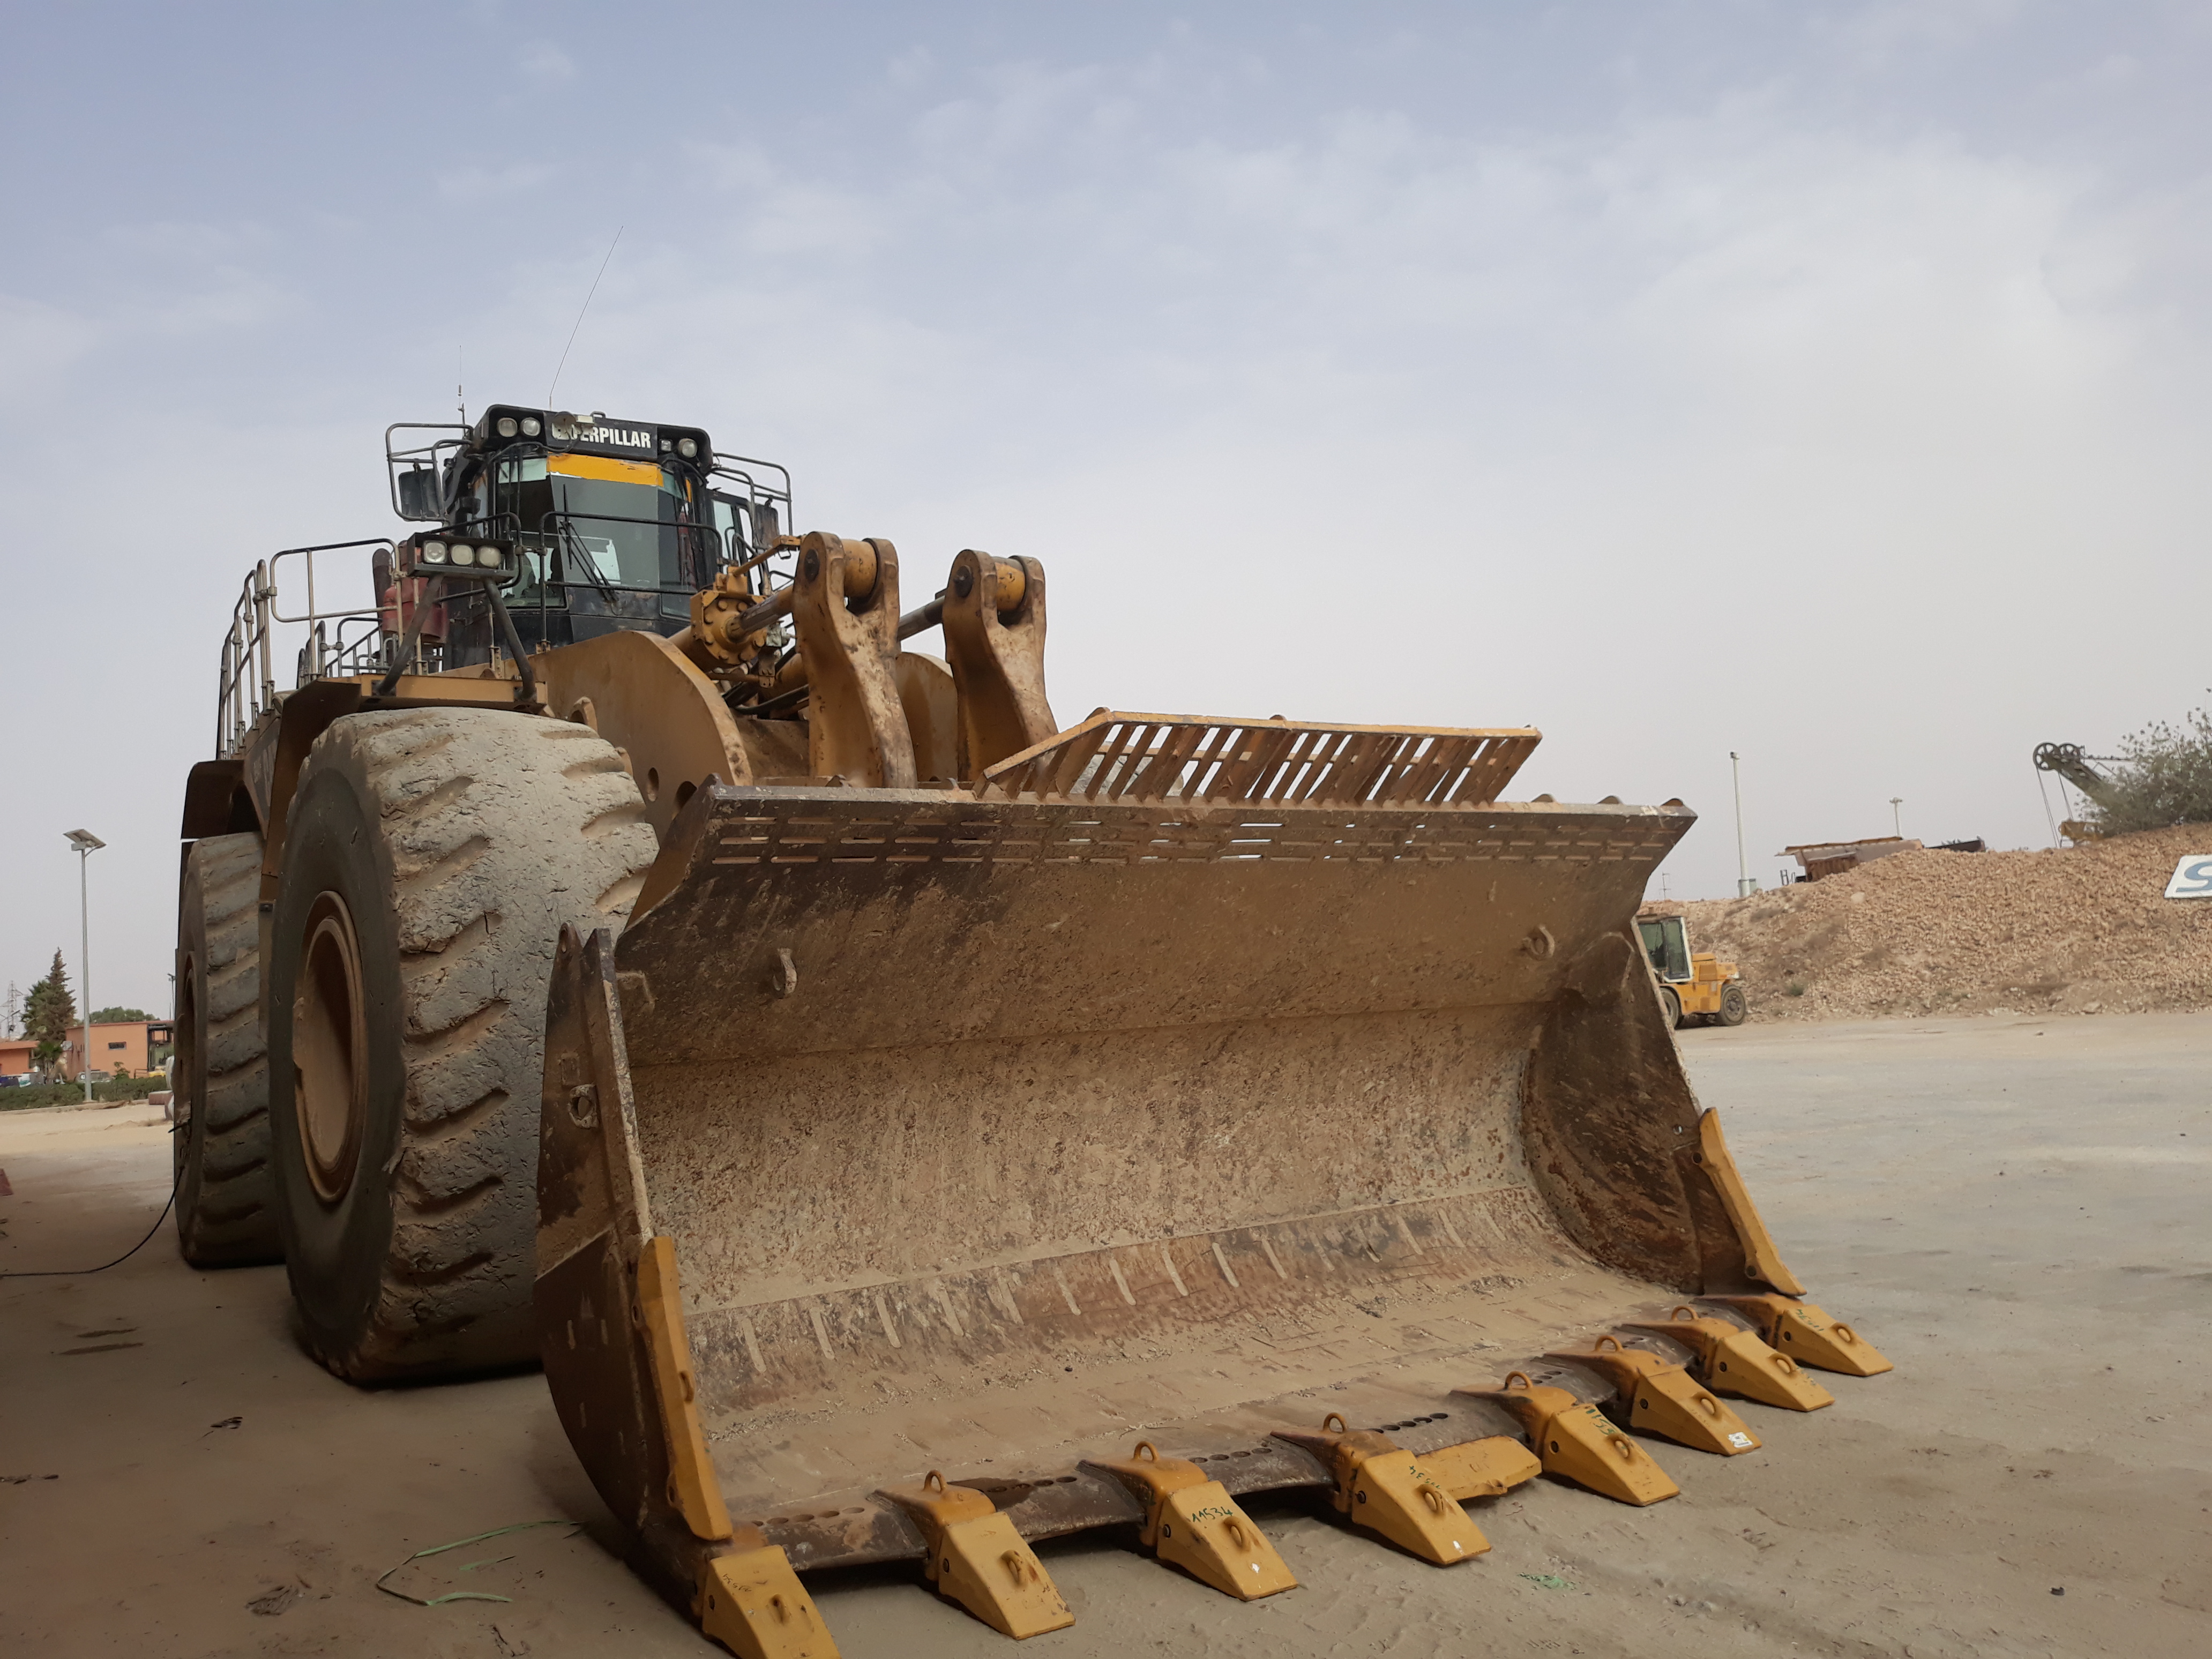chargeuse: (113, 383, 1844, 1659)
